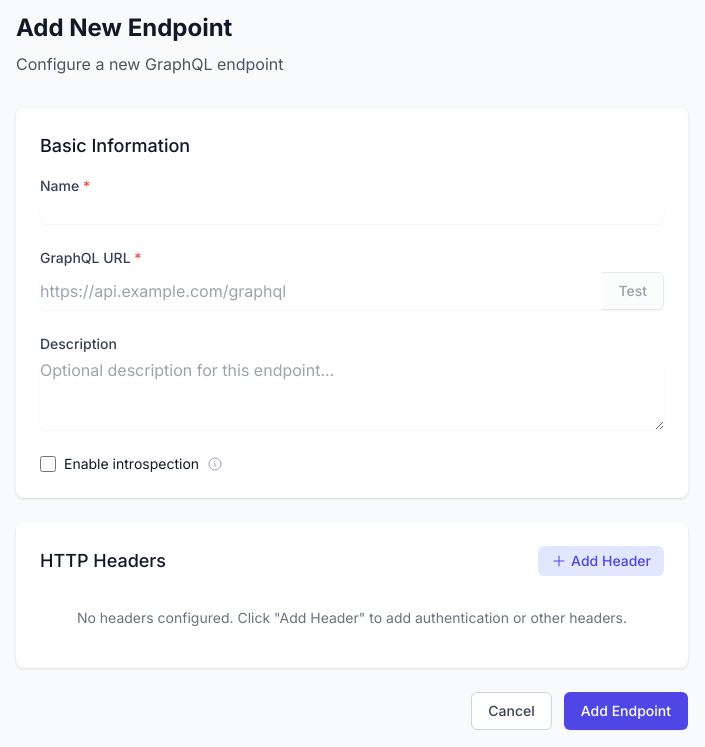
EndpointForm › headers management › should add new header
The width and height of the screenshot is (705, 747).
Click the button with test id "add-header-btn": (601,561) [538,546,664,576]
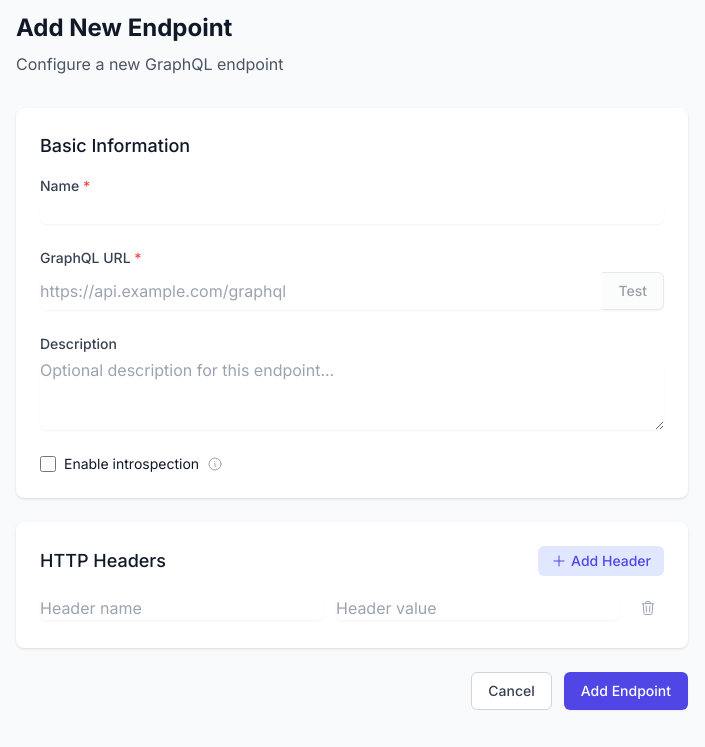
Expected: the element with test id "header-row-0" is shown, [40,592,664,624]
